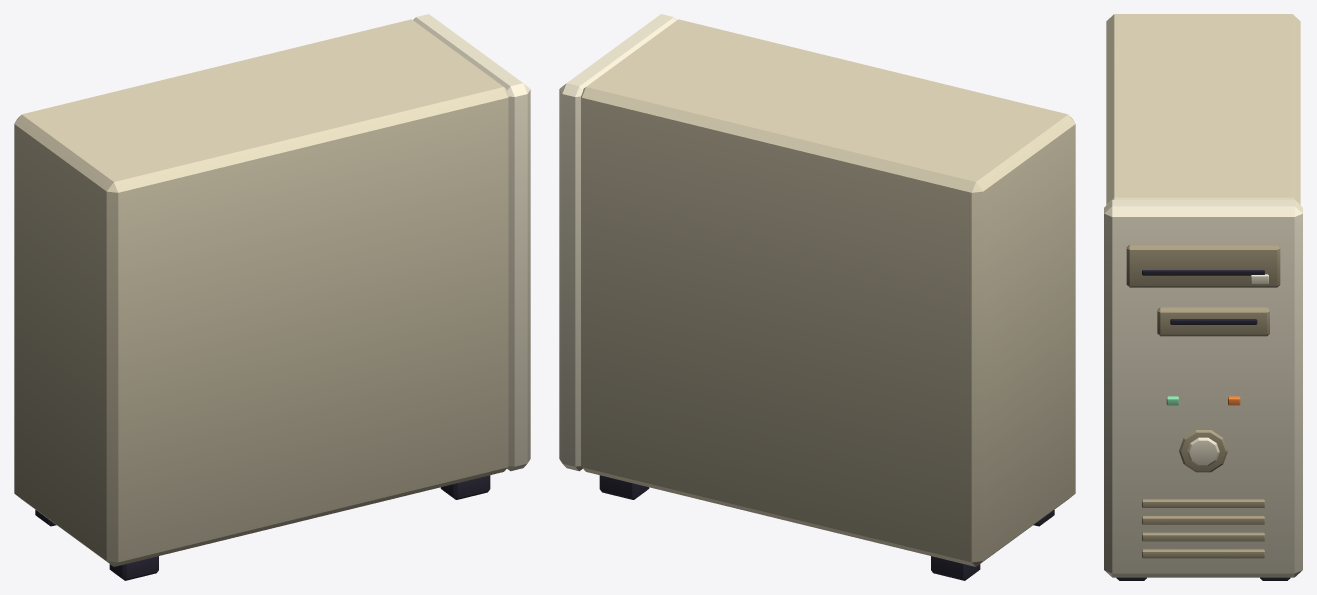
The model's file is Computer_Tower.fbx.
3 renders of one model, left to right at view 1: azimuth 30°, elevation 25°; view 2: azimuth 150°, elevation 25°; view 3: azimuth 270°, elevation 25°, orthographic. The views are drawn at different scales.
Parts seen in each view (by area): view 1: Computer_Tower; view 2: Computer_Tower; view 3: Computer_Tower.
Part boxes in pixels (bbox=[...]): Computer_Tower: bbox=[14, 14, 530, 580]; Computer_Tower: bbox=[559, 14, 1075, 580]; Computer_Tower: bbox=[1104, 14, 1302, 580].
Bounding box in the file's own units: 2.11 × 1.89 × 0.873.
Materials: 1 (1 with a texture image).
